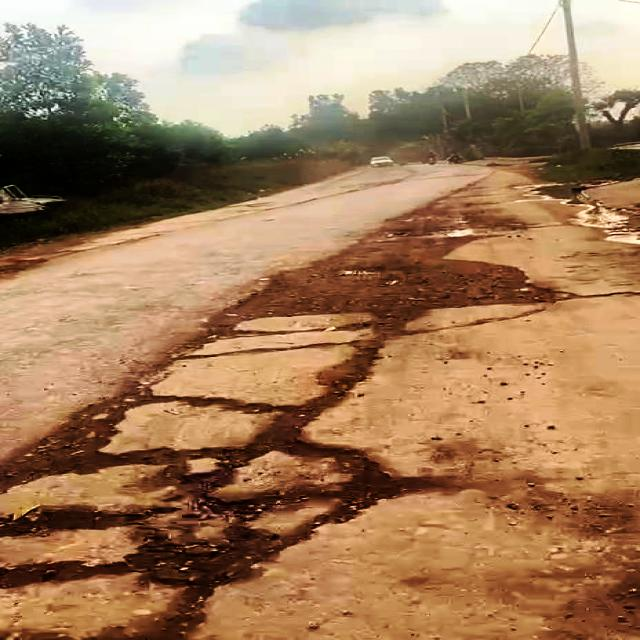pothole: (0, 431, 415, 598)
